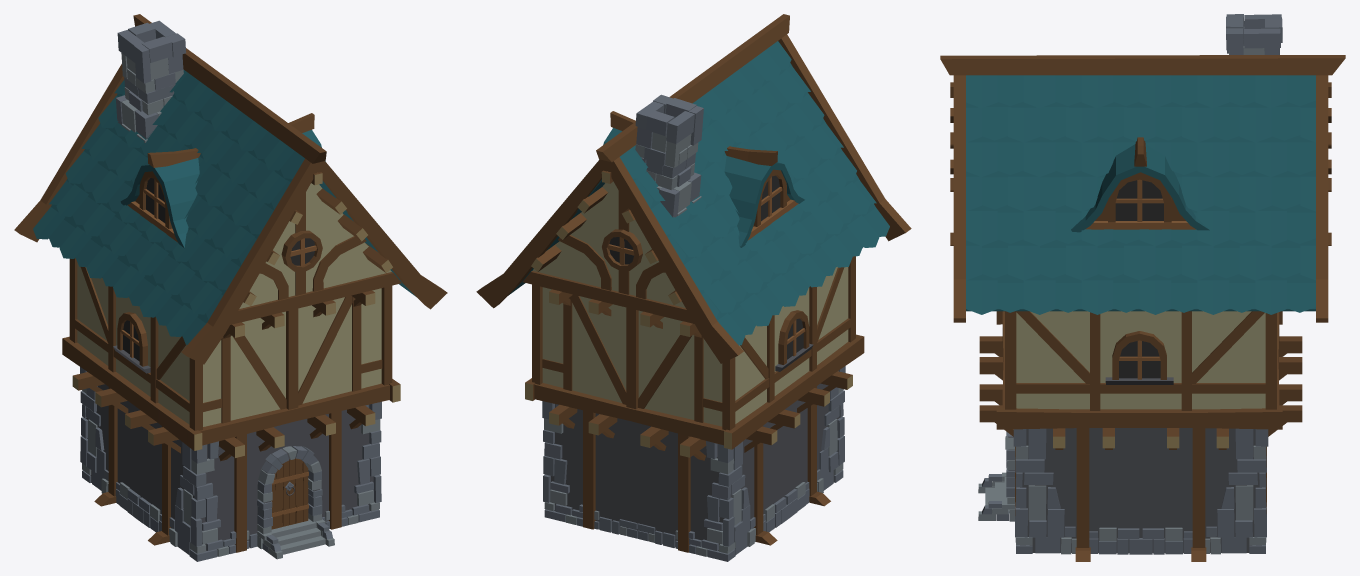
File: v_house_1.glb
3 views of the same model, side by side, from view 1: azimuth 30°, elevation 25°; view 2: azimuth 150°, elevation 25°; view 3: azimuth 270°, elevation 25° (orthographic). The views are drawn at different scales.
Visible parts, largest first — view 1: House_1; view 2: House_1; view 3: House_1.
Boxes of the visible parts, <box> form: House_1: <box>14,14,447,561</box>; House_1: <box>476,14,911,561</box>; House_1: <box>940,14,1345,561</box>.
Size of the model in its own units: 2.14 by 3.39 by 2.66.
